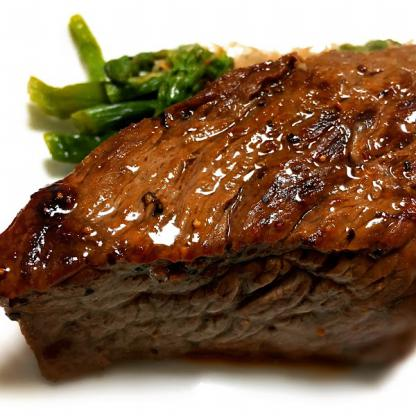Carne: (10, 35, 415, 398)
